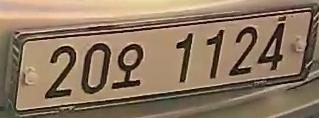0: (78, 40, 112, 96)
1: (201, 26, 227, 83), (171, 31, 197, 87)
2: (42, 42, 78, 100), (228, 25, 258, 75)
4: (258, 23, 286, 71)
오: (113, 40, 146, 91)
